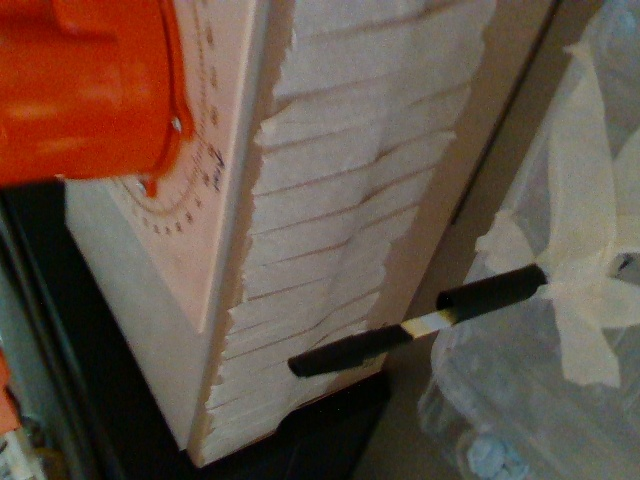test_strip: (287, 307, 453, 377)
